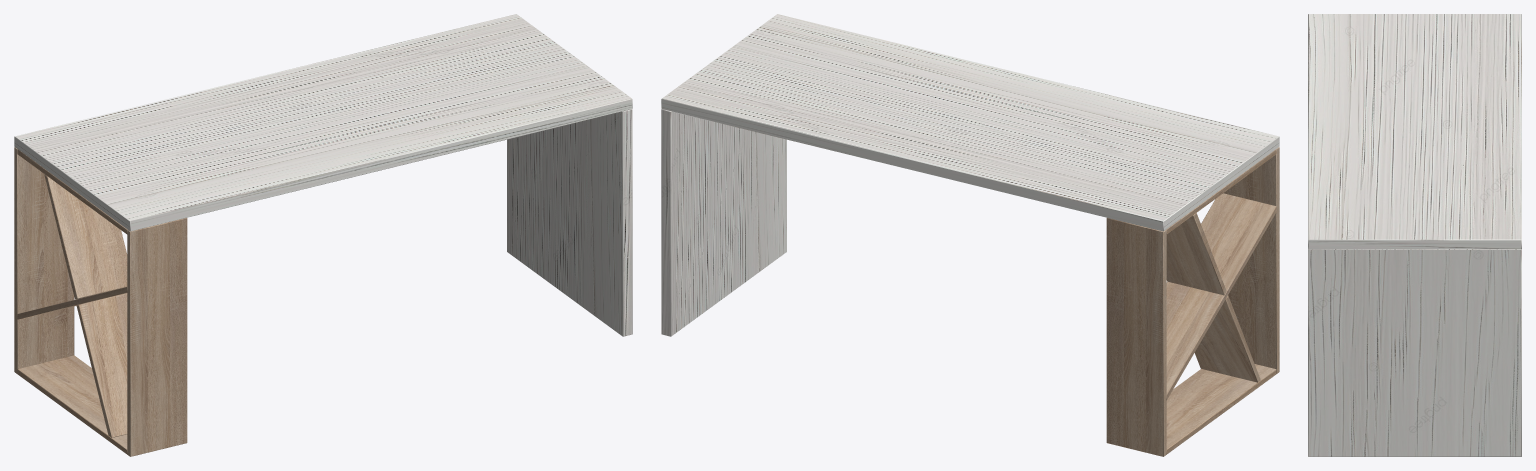
Rendered from mesaZ.obj.
The picture shows the model from 3 angles, left to right: view 1: azimuth 30°, elevation 25°; view 2: azimuth 150°, elevation 25°; view 3: azimuth 270°, elevation 25°; orthographic projection. The views are drawn at different scales.
Parts seen in each view (by area): view 1: ID134, ID123, ID22, ID31, ID40, ID67, ID6, ID58, ID49; view 2: ID134, ID123, ID31, ID58, ID22, ID6, ID40, ID67, ID49; view 3: ID134, ID123.
Part boxes in pixels (left/top/right/bottom): ID134: left=14, top=14, right=632, bottom=231; ID123: left=507, top=109, right=632, bottom=336; ID22: left=127, top=218, right=187, bottom=456; ID31: left=14, top=147, right=74, bottom=373; ID40: left=44, top=174, right=127, bottom=299; ID67: left=76, top=293, right=127, bottom=437; ID6: left=17, top=355, right=127, bottom=454; ID58: left=17, top=286, right=127, bottom=319; ID49: left=17, top=149, right=127, bottom=234; ID134: left=661, top=14, right=1279, bottom=231; ID123: left=661, top=109, right=786, bottom=336; ID31: left=1106, top=218, right=1166, bottom=456; ID58: left=1166, top=193, right=1276, bottom=399; ID22: left=1223, top=147, right=1279, bottom=373; ID6: left=1166, top=364, right=1276, bottom=454; ID40: left=1166, top=213, right=1226, bottom=295; ID67: left=1194, top=295, right=1260, bottom=382; ID49: left=1166, top=149, right=1276, bottom=234; ID134: left=1308, top=14, right=1521, bottom=249; ID123: left=1308, top=249, right=1521, bottom=456.
Bounding box in the file's own units: 1.75 × 0.788 × 0.7.
3 materials, 2 textured.
